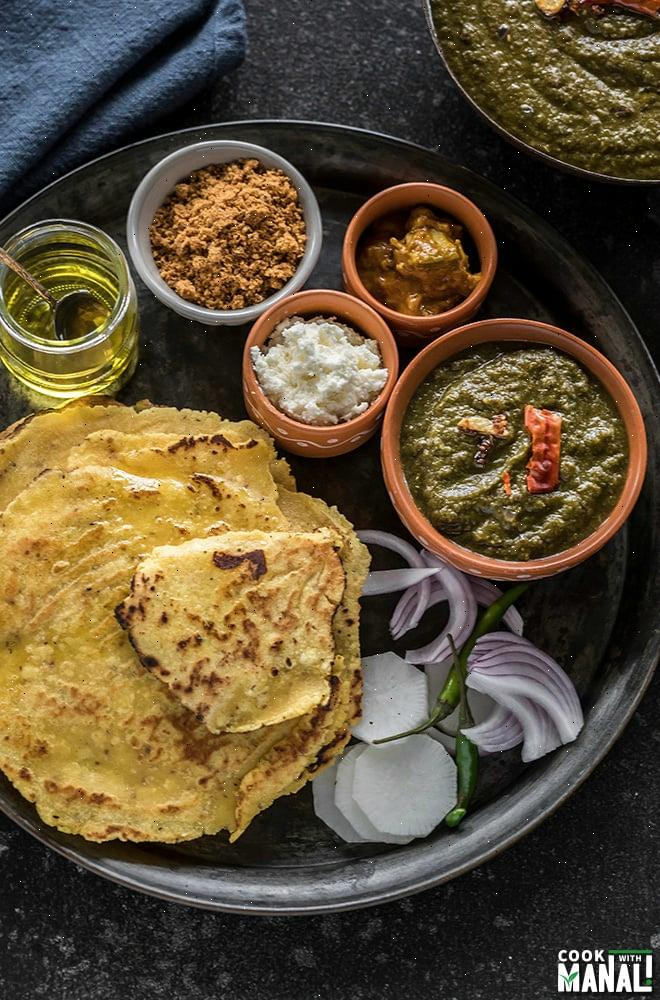saag: (402, 344, 628, 564)
